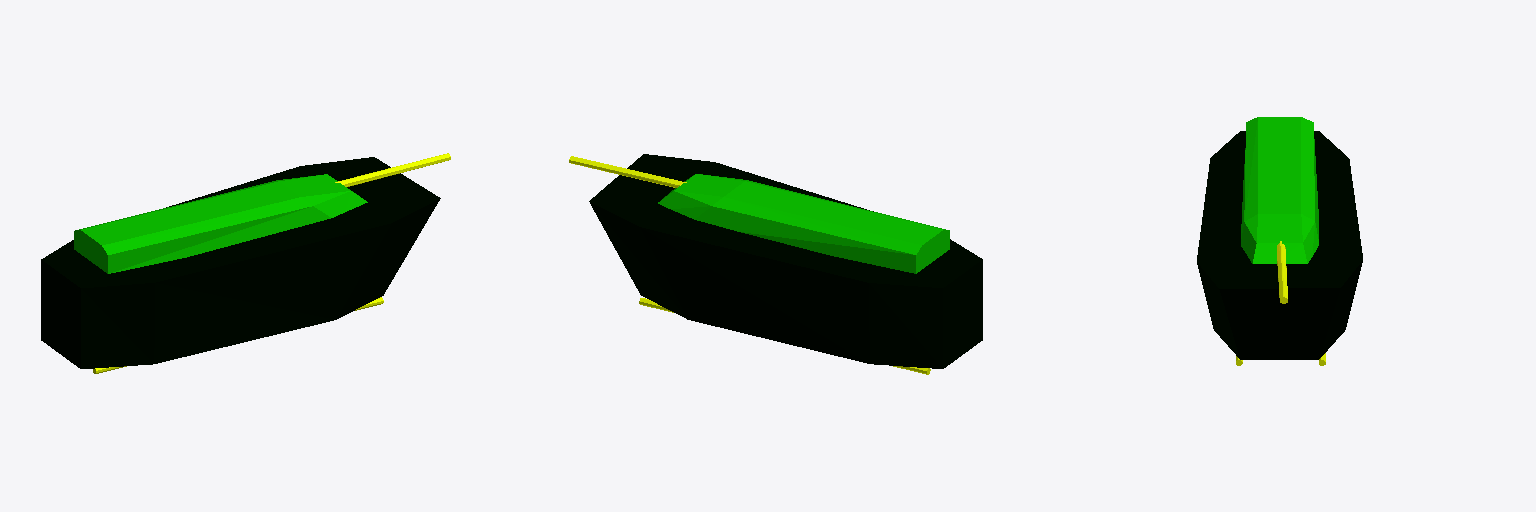
The model's file is tank.obj.
The picture shows the model from 3 angles: view 1: azimuth 30°, elevation 25°; view 2: azimuth 150°, elevation 25°; view 3: azimuth 270°, elevation 25°; orthographic projection.
Parts seen in each view (by area): view 1: Cube, Cube.002, Cube.001; view 2: Cube, Cube.002, Cube.001; view 3: Cube, Cube.002, Cube.001.
Part boxes in pixels (bbox=[...]): Cube: bbox=[41, 157, 440, 368]; Cube.002: bbox=[74, 174, 367, 273]; Cube.001: bbox=[335, 153, 450, 186]; Cube: bbox=[589, 154, 982, 368]; Cube.002: bbox=[658, 174, 949, 273]; Cube.001: bbox=[569, 156, 686, 187]; Cube: bbox=[1197, 131, 1362, 359]; Cube.002: bbox=[1241, 117, 1318, 263]; Cube.001: bbox=[1277, 241, 1287, 303].
Size of the model in its own units: 10.08 by 2.9 by 3.74.